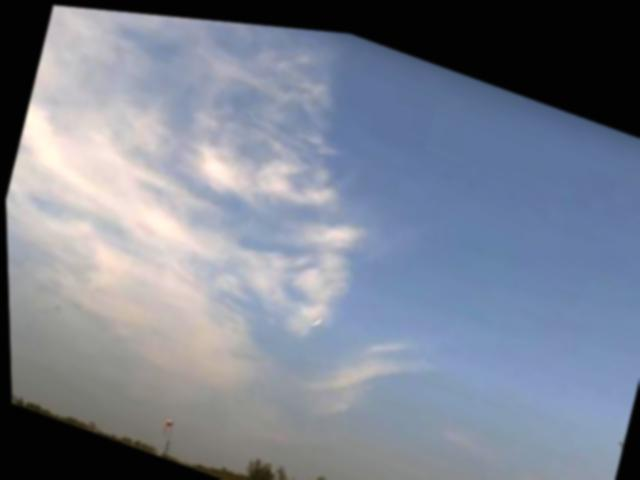iha: (308, 308, 321, 322)
